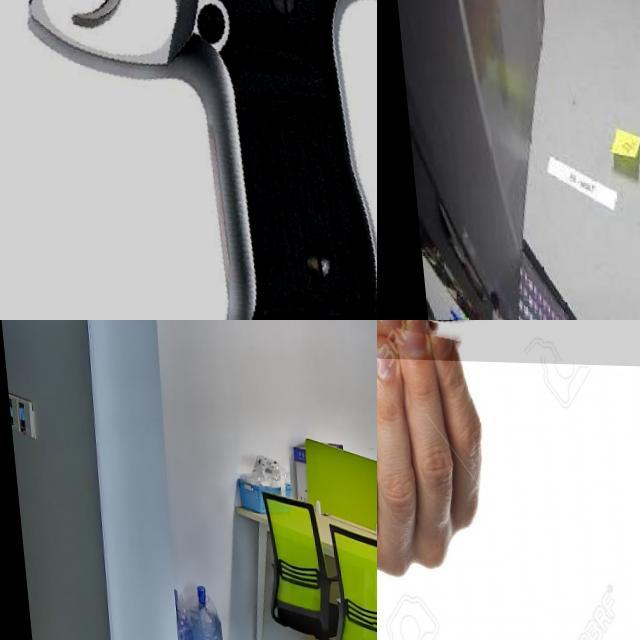gun-knife-thesis - v11 Yolov5 augmented: (0, 0, 377, 320), (377, 320, 640, 485)
